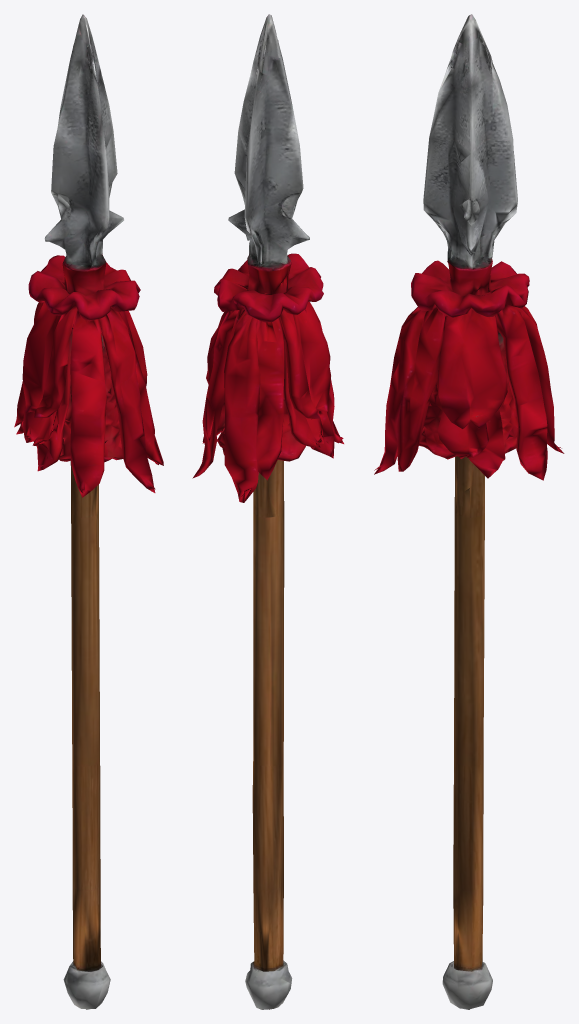
File: spear.glb
The picture shows the model from 3 angles, left to right: view 1: azimuth 30°, elevation 25°; view 2: azimuth 150°, elevation 25°; view 3: azimuth 270°, elevation 25°; orthographic projection.
Visible parts, largest first — view 1: spear; view 2: spear; view 3: spear.
Part boxes in pixels (box(x1,y1,x2,y2)): spear: box(14, 14, 163, 1009); spear: box(192, 14, 343, 1009); spear: box(374, 14, 564, 1009).
Size of the model in its own units: 0.2383 by 2 by 0.3494.
1 material, 1 textured.
